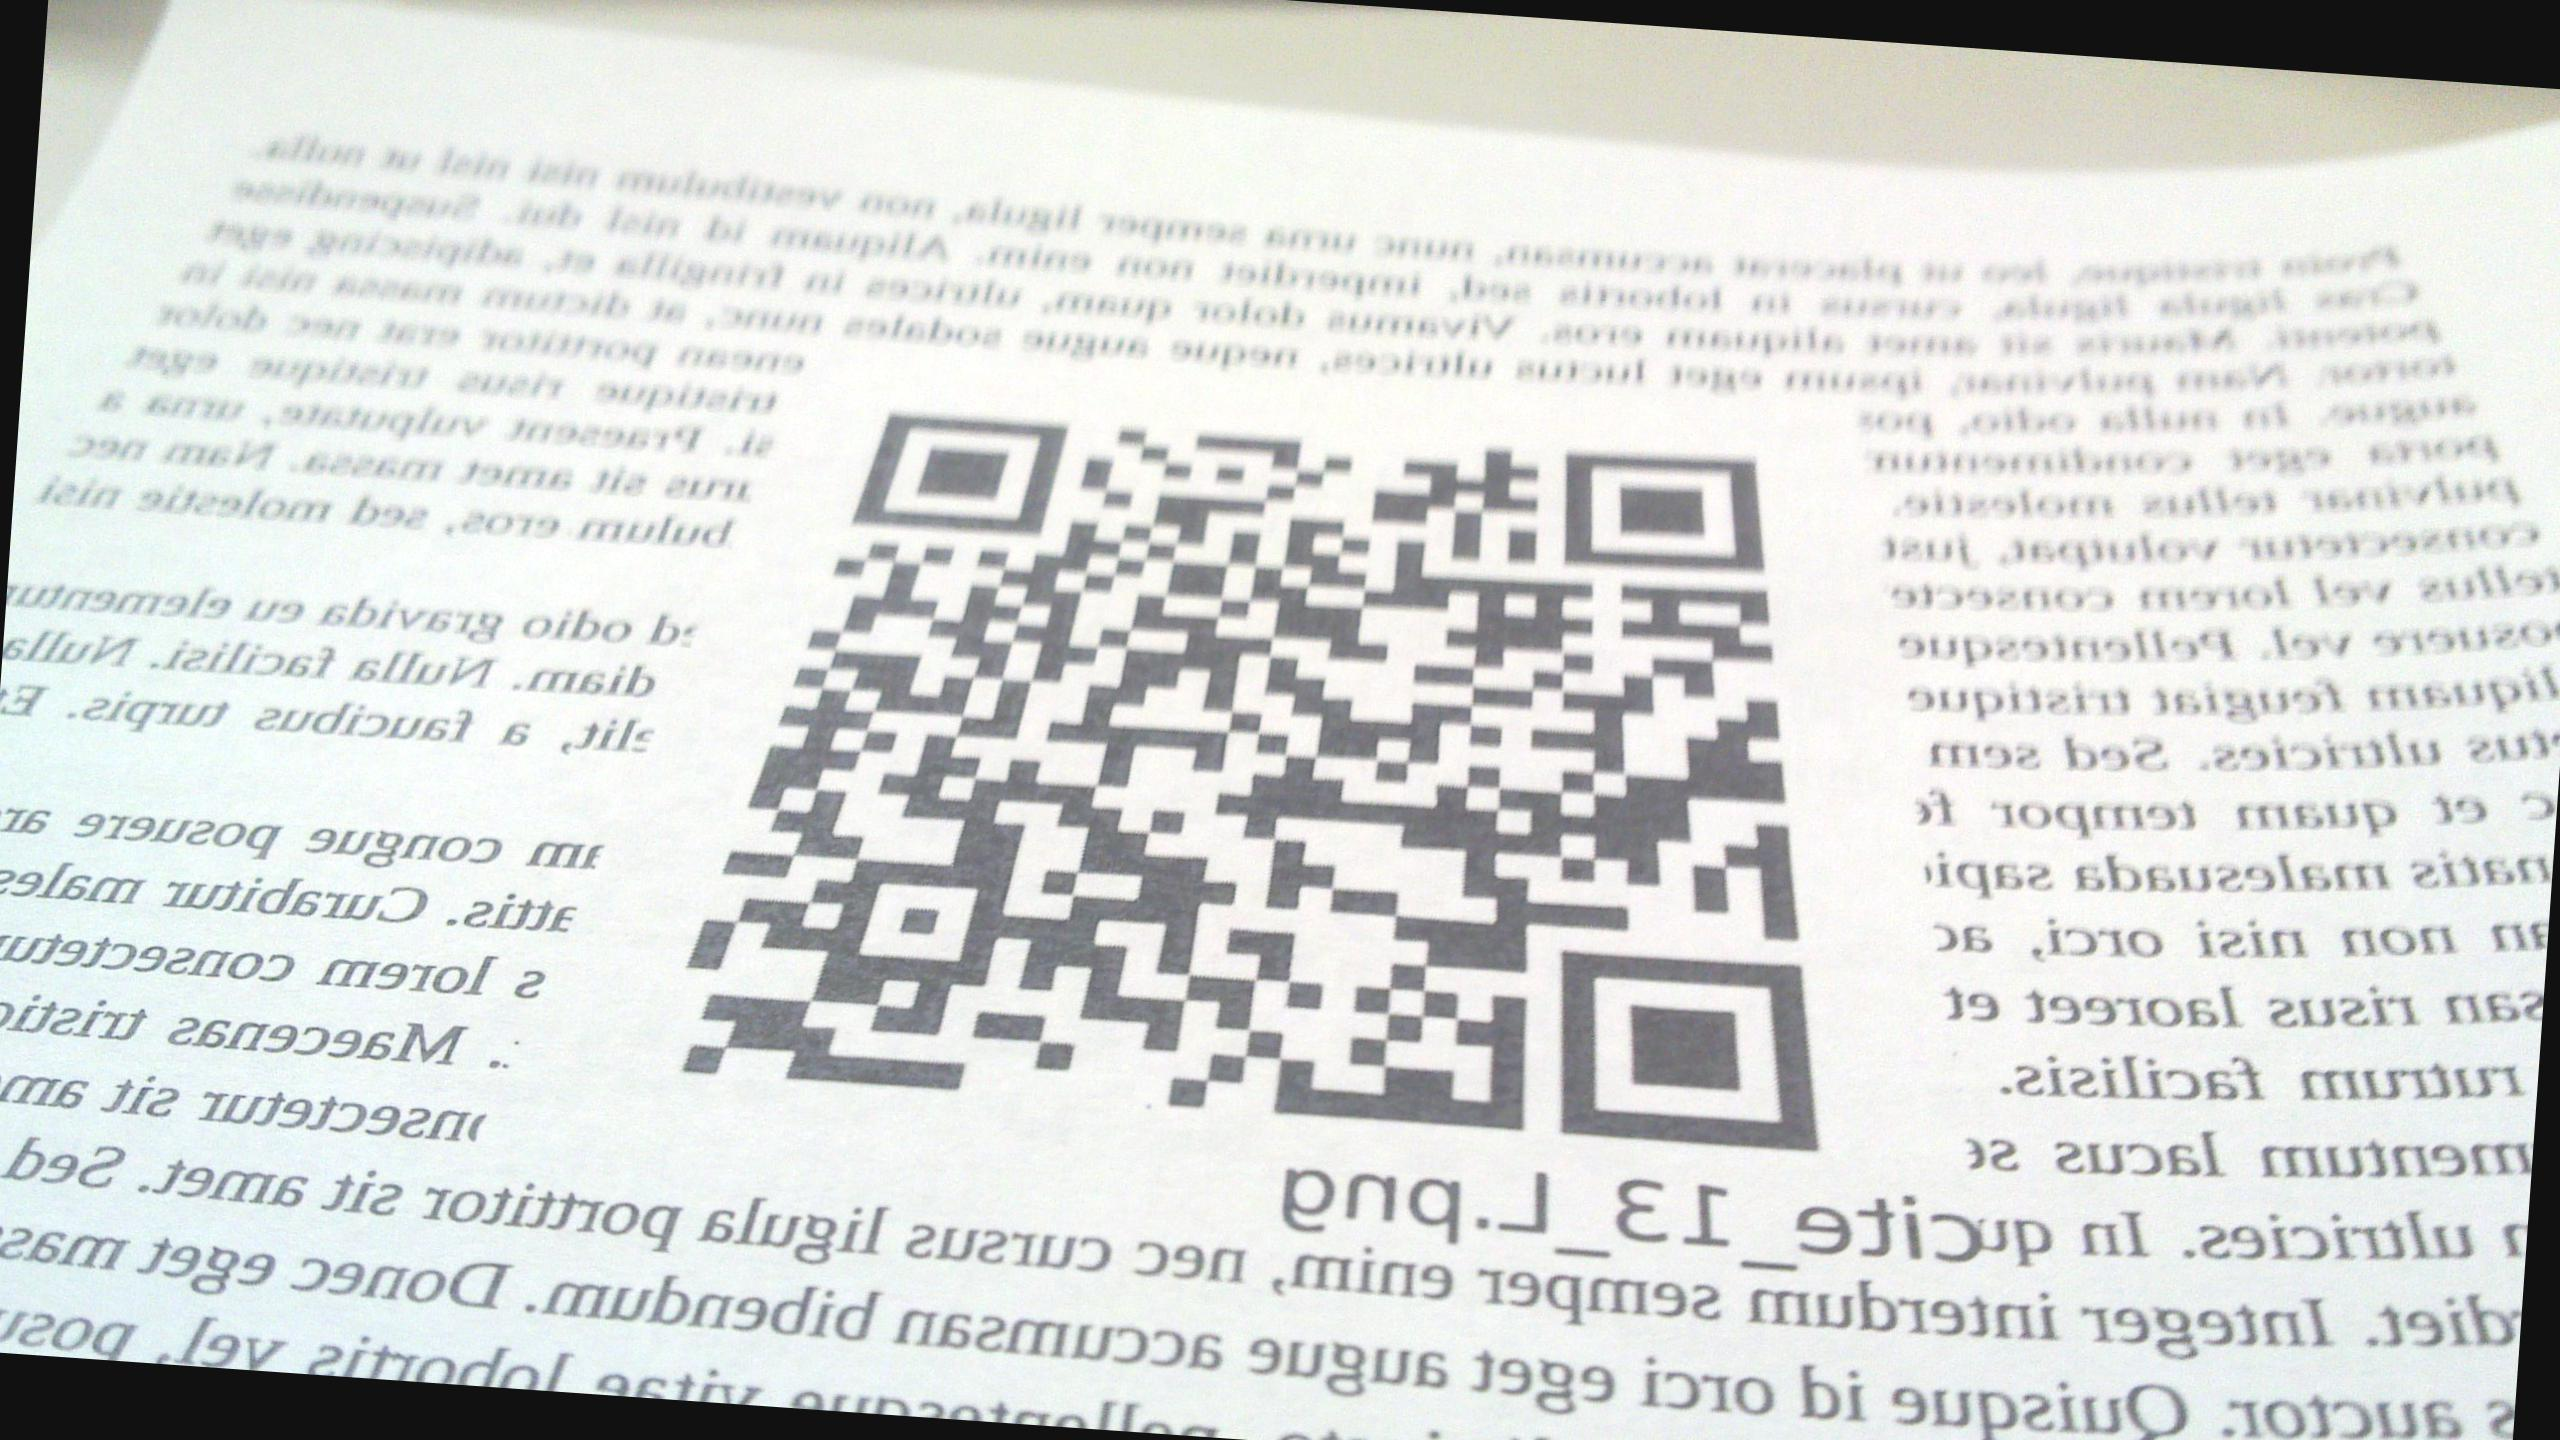QR: (675, 404, 1825, 1169)
